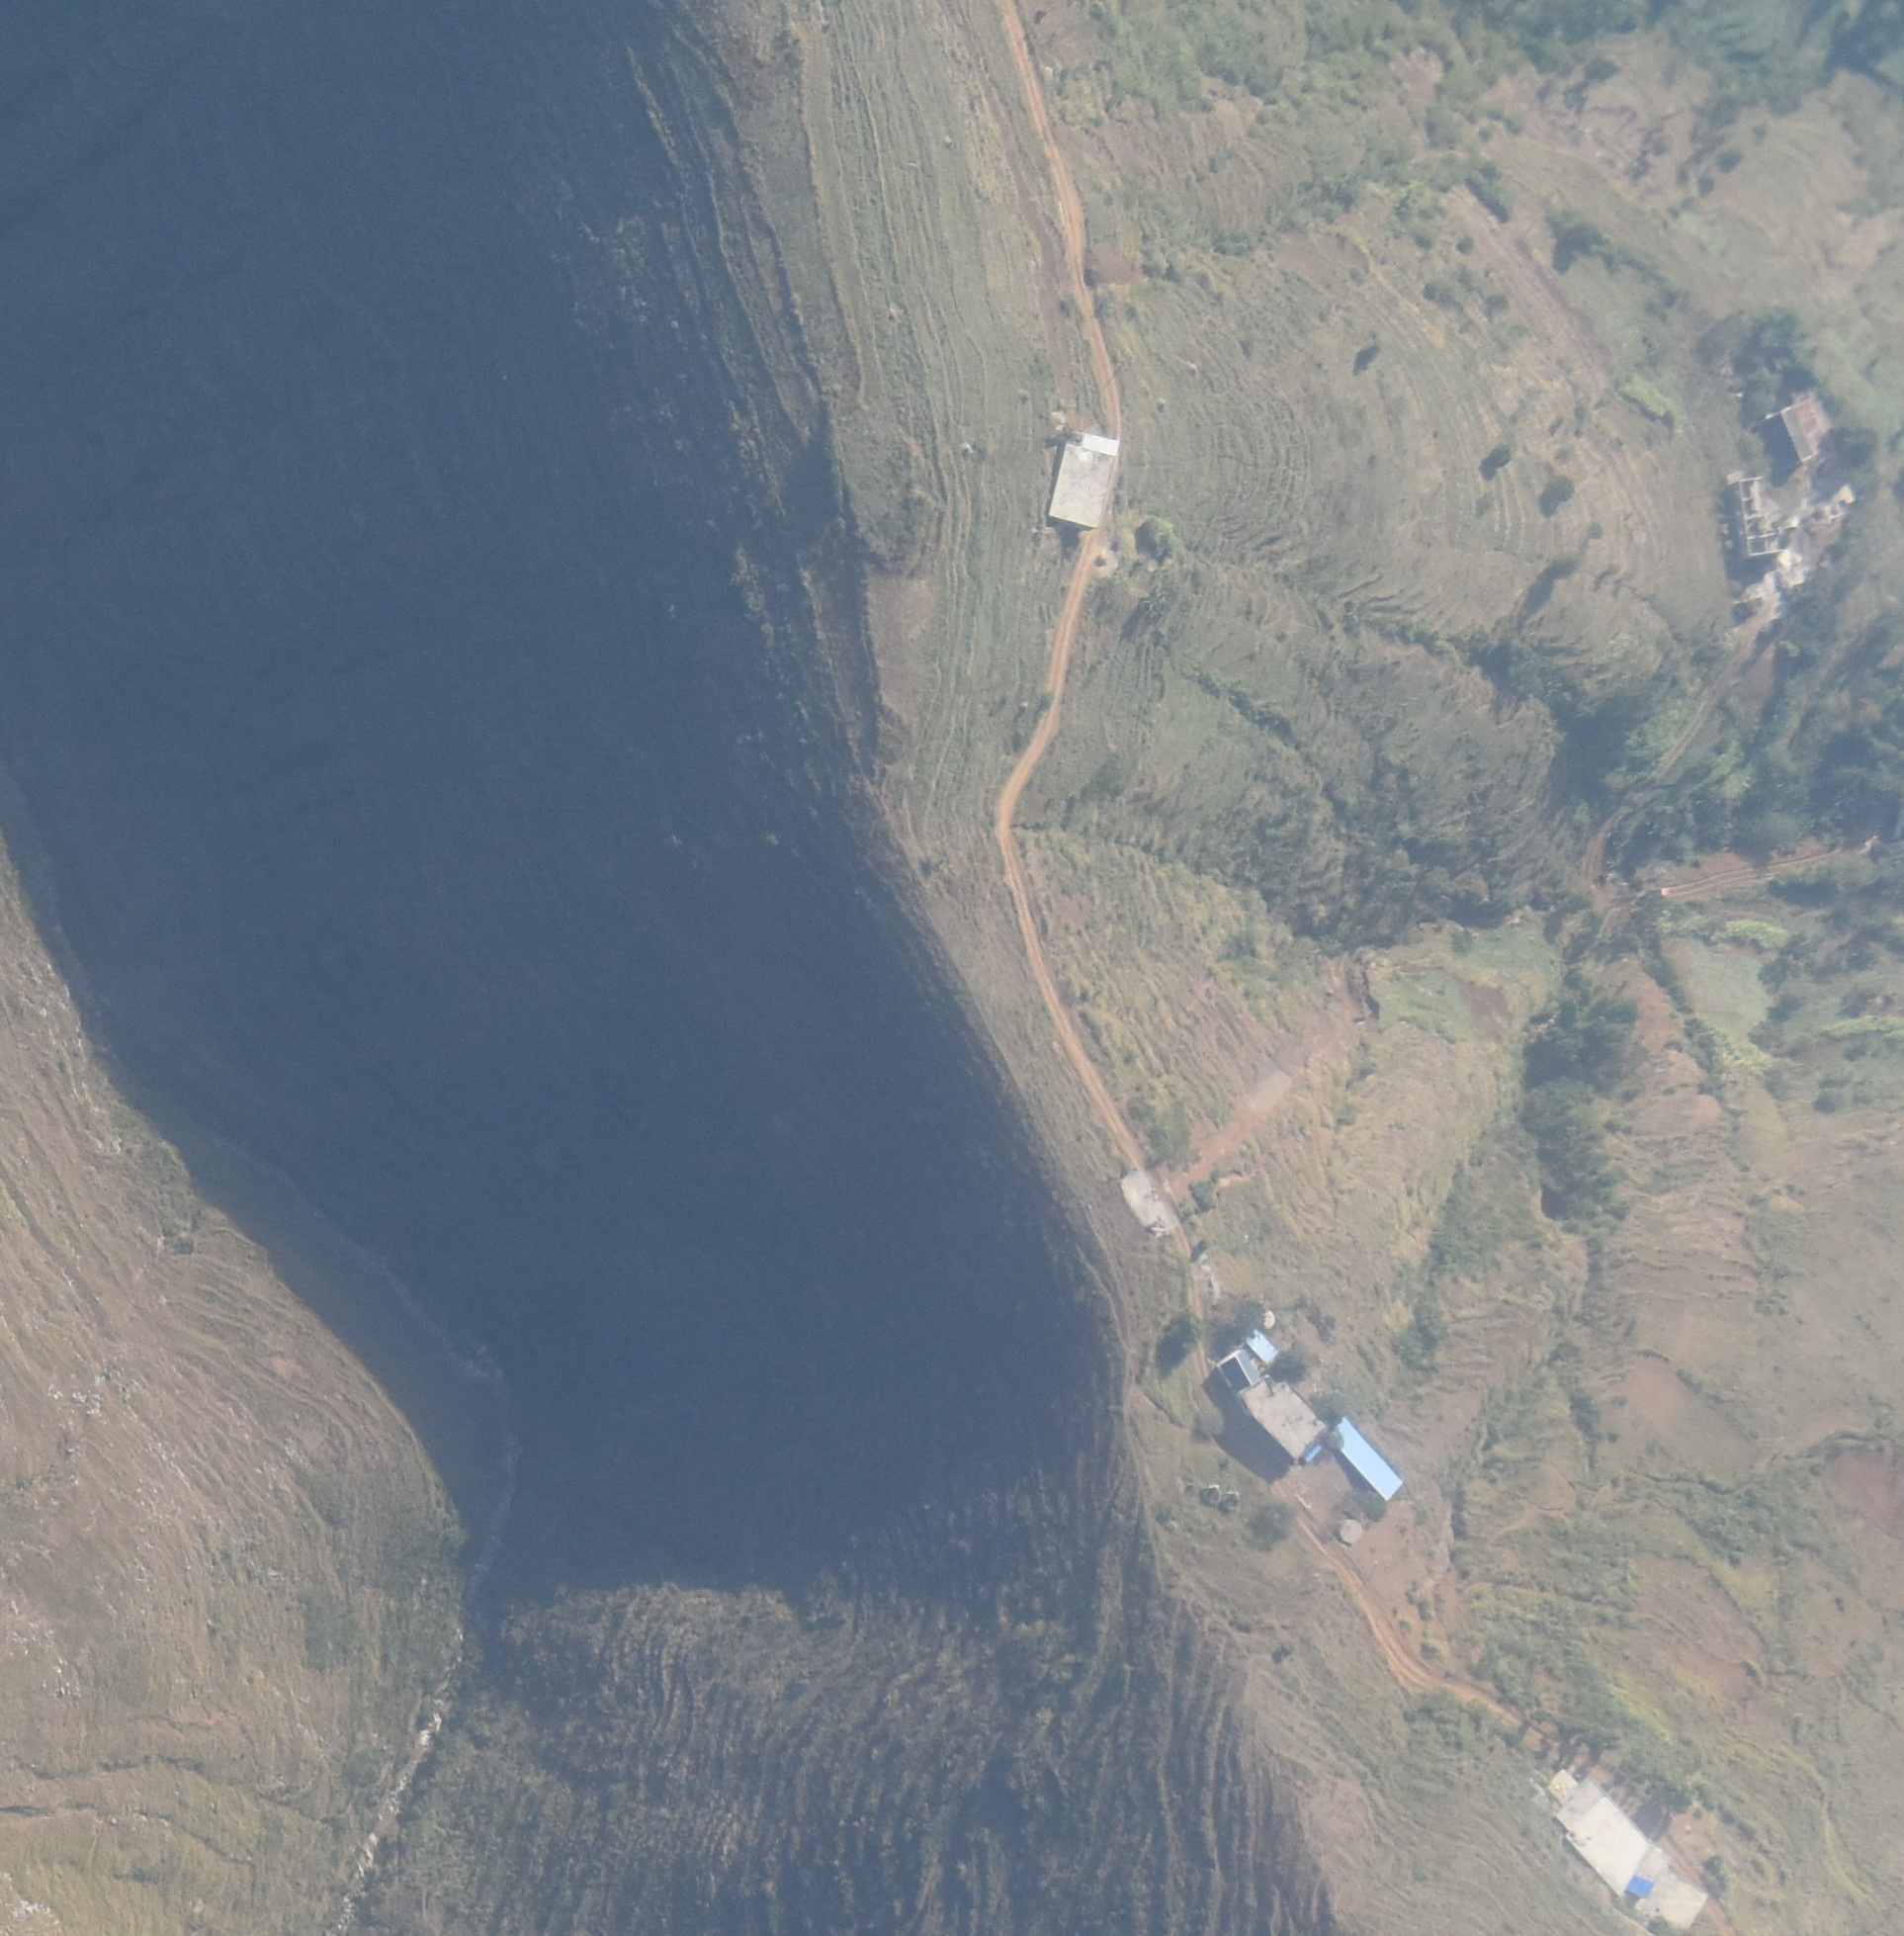building: (1547, 1767, 1709, 1933), (1240, 1376, 1327, 1458), (1050, 434, 1118, 528), (1737, 476, 1799, 558), (1761, 405, 1813, 467), (1118, 1170, 1166, 1228), (1215, 1348, 1262, 1394)
prefabricated-house: (1332, 1415, 1404, 1502), (1245, 1327, 1282, 1364), (1302, 1444, 1322, 1463)
vehicle: (1637, 886, 1672, 900)
well: (1339, 1517, 1362, 1544), (1259, 1310, 1276, 1331)
